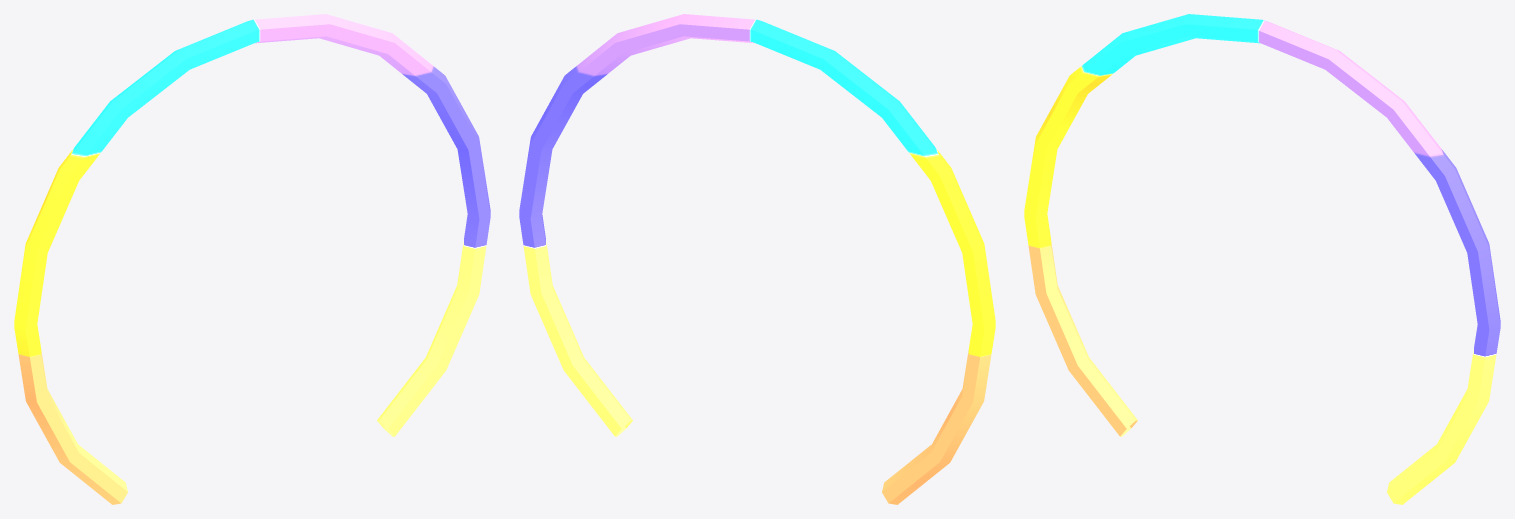
File: ETC0110006.fbx
3 views of the same model, side by side, from view 1: azimuth 30°, elevation 25°; view 2: azimuth 150°, elevation 25°; view 3: azimuth 330°, elevation 25° (orthographic).
Visible parts, largest first — view 1: smETC0110006; view 2: smETC0110006; view 3: smETC0110006.
Part boxes in pixels (x1,y1,x2,y2): smETC0110006: [14, 14, 490, 504]; smETC0110006: [519, 14, 995, 504]; smETC0110006: [1024, 14, 1500, 504].
Size of the model in its own units: 317 by 287 by 13.09.
1 material, 1 textured.
